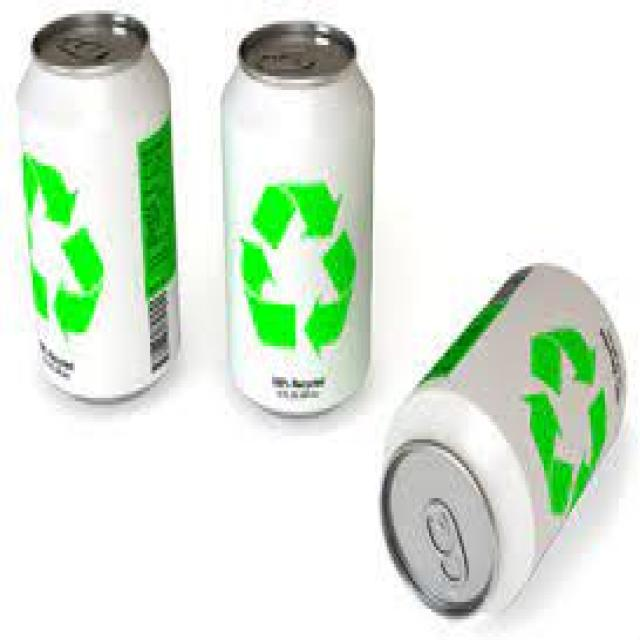Metal: (377, 256, 629, 637), (15, 5, 183, 412), (217, 12, 377, 422)
